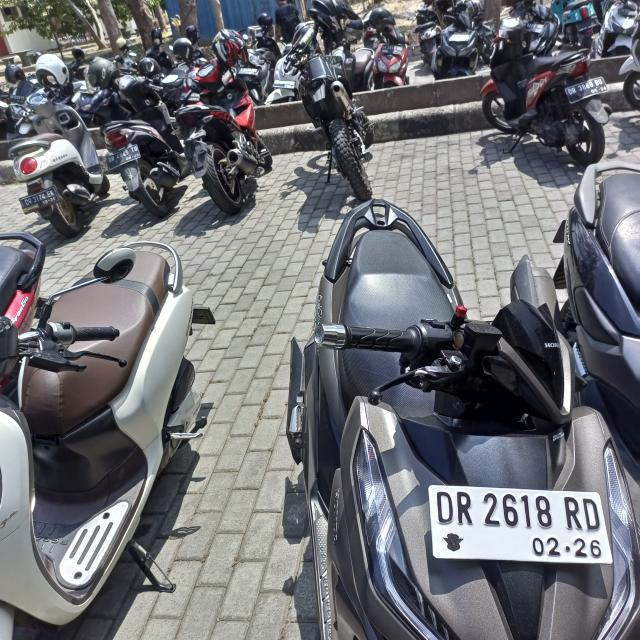plate: (427, 482, 619, 568), (18, 184, 62, 217), (564, 75, 609, 105), (105, 143, 141, 172)
